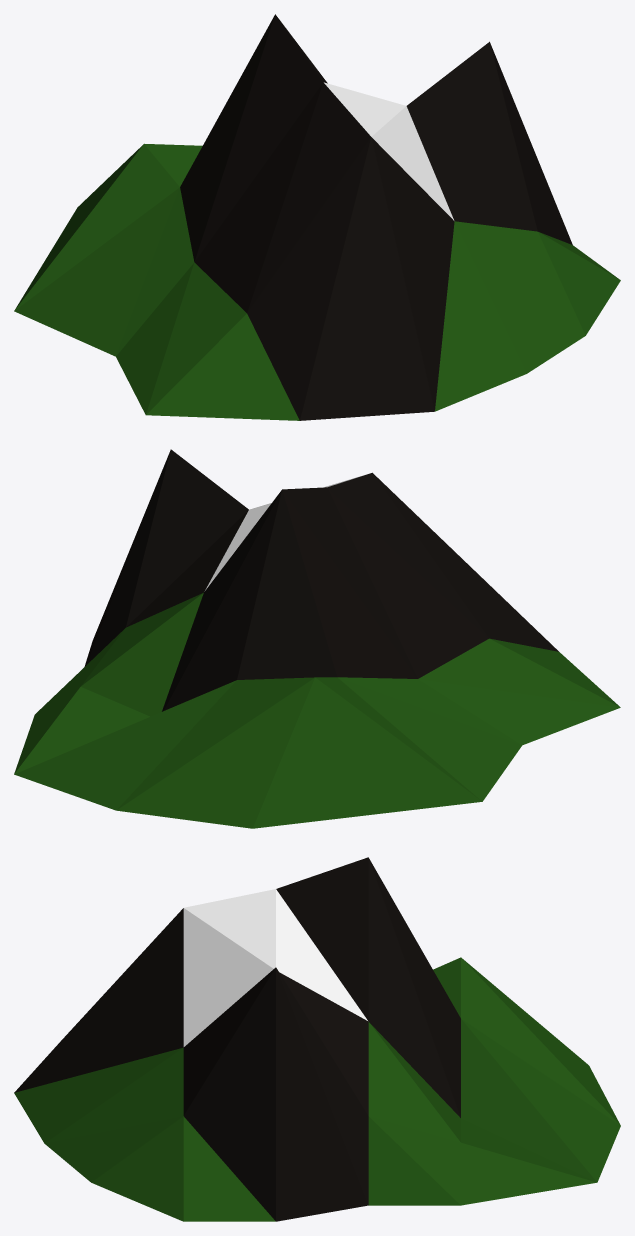
Rendered from Mountain_5.fbx.
3 renders of one model, top to bottom at view 1: azimuth 30°, elevation 25°; view 2: azimuth 150°, elevation 25°; view 3: azimuth 270°, elevation 25°, orthographic. The views are drawn at different scales.
Parts seen in each view (by area): view 1: Mountain_5; view 2: Mountain_5; view 3: Mountain_5.
Boxes of the visible parts, x1=… form: Mountain_5: x1=14, y1=14, x2=620, y2=420; Mountain_5: x1=14, y1=449, x2=620, y2=828; Mountain_5: x1=14, y1=857, x2=620, y2=1221.
Size of the model in its own units: 1471 by 730 by 1624.
